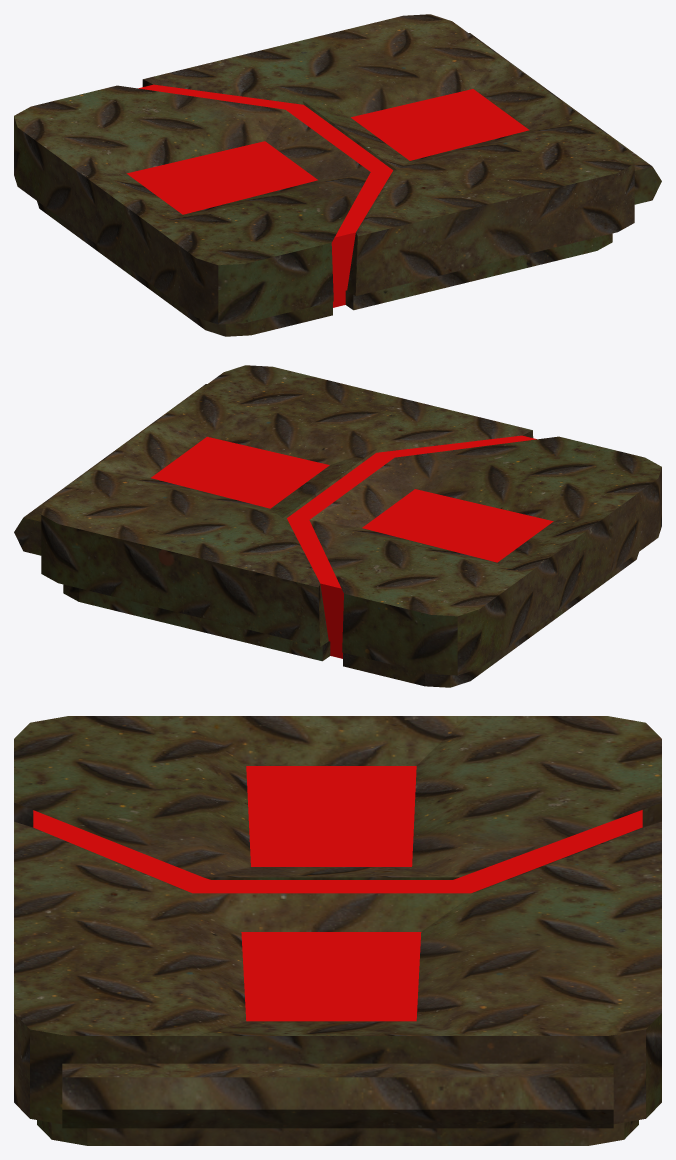
Rendered from dissapearingplatform.fbx.
The picture shows the model from 3 angles, top to bottom: view 1: azimuth 30°, elevation 25°; view 2: azimuth 150°, elevation 25°; view 3: azimuth 270°, elevation 25°; orthographic projection. The views are drawn at different scales.
Parts seen in each view (by area): view 1: dissapearingplatform; view 2: dissapearingplatform; view 3: dissapearingplatform.
Part boxes in pixels (x1,y1,x2,y2): dissapearingplatform: (14, 14, 661, 336); dissapearingplatform: (14, 365, 661, 687); dissapearingplatform: (14, 716, 661, 1145).
Size of the model in its own units: 42.03 by 6.96 by 33.72.
